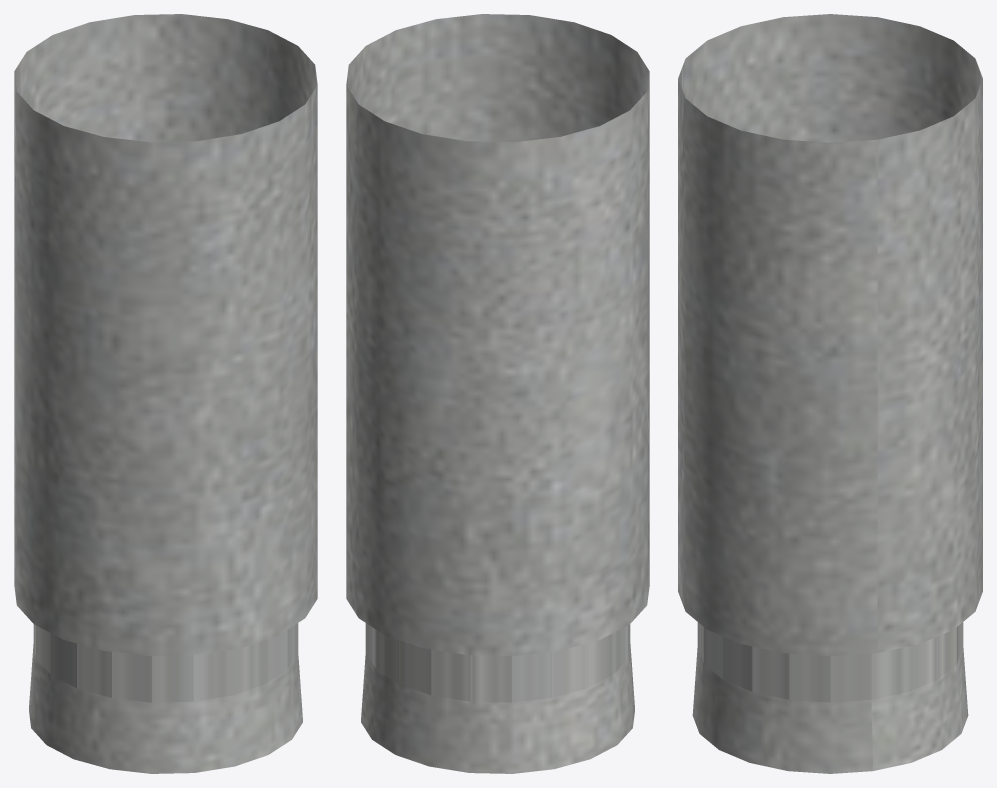
File: LightNode.FBX
3 views of the same model, side by side, from view 1: azimuth 30°, elevation 25°; view 2: azimuth 150°, elevation 25°; view 3: azimuth 270°, elevation 25° (orthographic).
Parts seen in each view (by area): view 1: pCylinder2; view 2: pCylinder2; view 3: pCylinder2.
Part boxes in pixels (x1,y1,x2,y2): pCylinder2: (14,14,317,773); pCylinder2: (346,14,649,773); pCylinder2: (678,14,982,773).
Size of the model in its own units: 2.68 by 6.17 by 2.68.
1 material, 1 textured.
